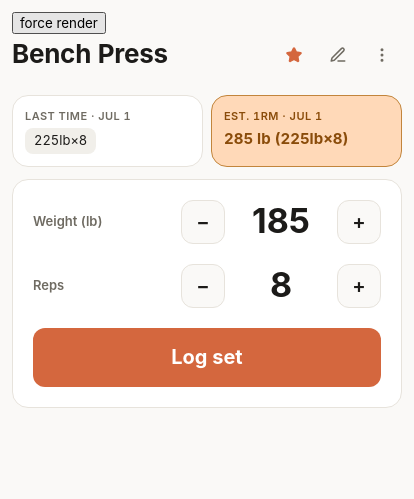
it: ExerciseDetail PR badge folds in sets that have not synced yet › keeps the server best when the set logged offline does not beat it
Check: the text "285 lb (225lb×8)" is shown, box [224,129,348,148]
Click the button "Log set": (207, 357) [33,328,381,386]
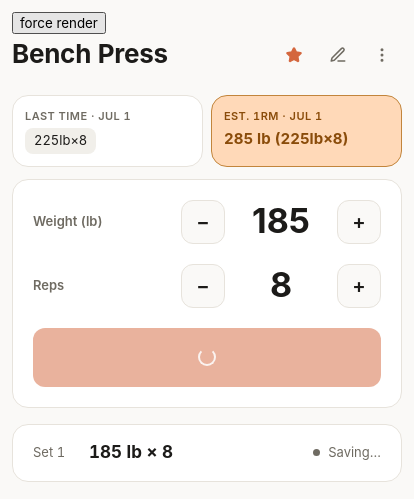
Check: the text "285 lb (225lb×8)" is shown, box [224,129,348,148]
Check: the text "185 lb × 8" is shown, box [89,440,173,465]
